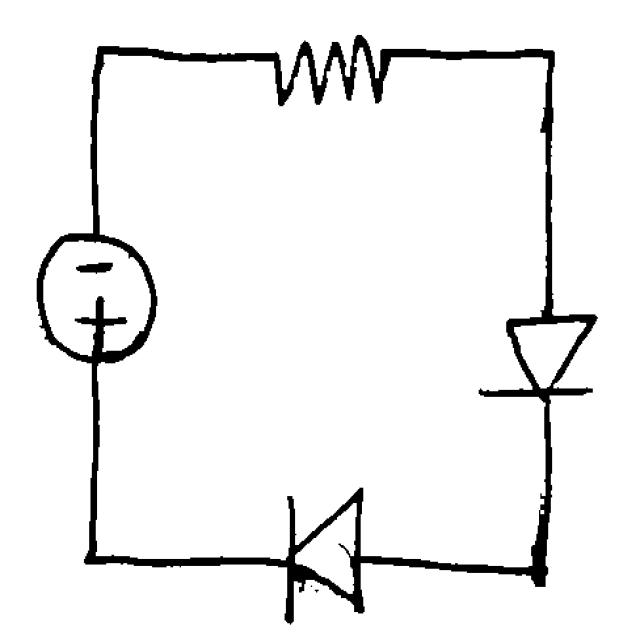dc: (24, 227, 166, 368)
diode: (269, 466, 375, 631), (466, 302, 608, 418)
resistor: (253, 29, 399, 128)
